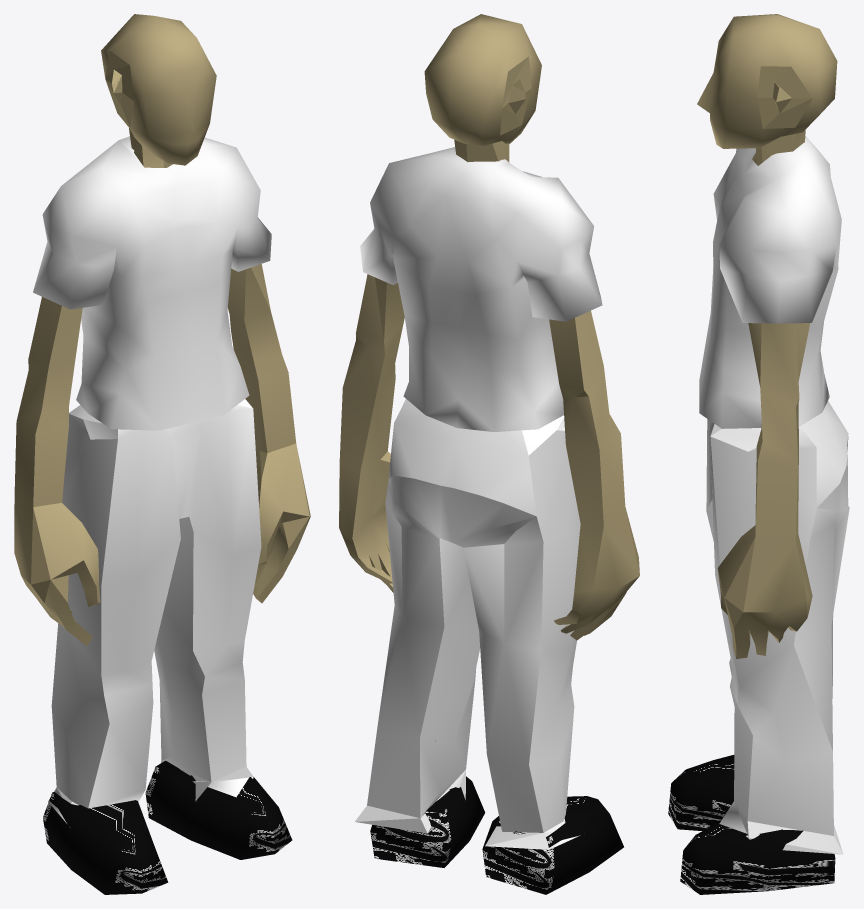
Rendered from avatar_clothed.glb.
3 renders of one model, left to right at view 1: azimuth 30°, elevation 25°; view 2: azimuth 150°, elevation 25°; view 3: azimuth 270°, elevation 25°, orthographic.
Visible parts, largest first — view 1: Jeans, Shirt, Body, Head, Sneakers.001, Sneakers; view 2: Jeans, Shirt, Body, Head, Sneakers, Sneakers.001; view 3: Jeans, Shirt, Body, Head, Sneakers.001, Sneakers.
Boxes of the visible parts, box(x1,y1,x2,y2) form: Jeans: box(48, 399, 261, 823); Shirt: box(33, 136, 271, 430); Body: box(14, 128, 310, 697); Head: box(101, 14, 216, 165); Sneakers.001: box(145, 760, 292, 859); Sneakers: box(43, 792, 168, 894); Jeans: box(355, 399, 580, 849); Shirt: box(360, 147, 602, 431); Body: box(339, 140, 639, 742); Head: box(424, 14, 541, 145); Sneakers: box(482, 796, 623, 894); Sneakers.001: box(370, 776, 485, 867); Jeans: box(706, 401, 849, 854); Shirt: box(699, 136, 841, 428); Body: box(717, 130, 812, 659); Head: box(697, 14, 837, 148); Sneakers.001: box(680, 822, 835, 894); Sneakers: box(668, 755, 734, 830).
Bounding box in the file's own units: 4.77 × 13.39 × 2.65.
Materials: 3 (1 with a texture image).
